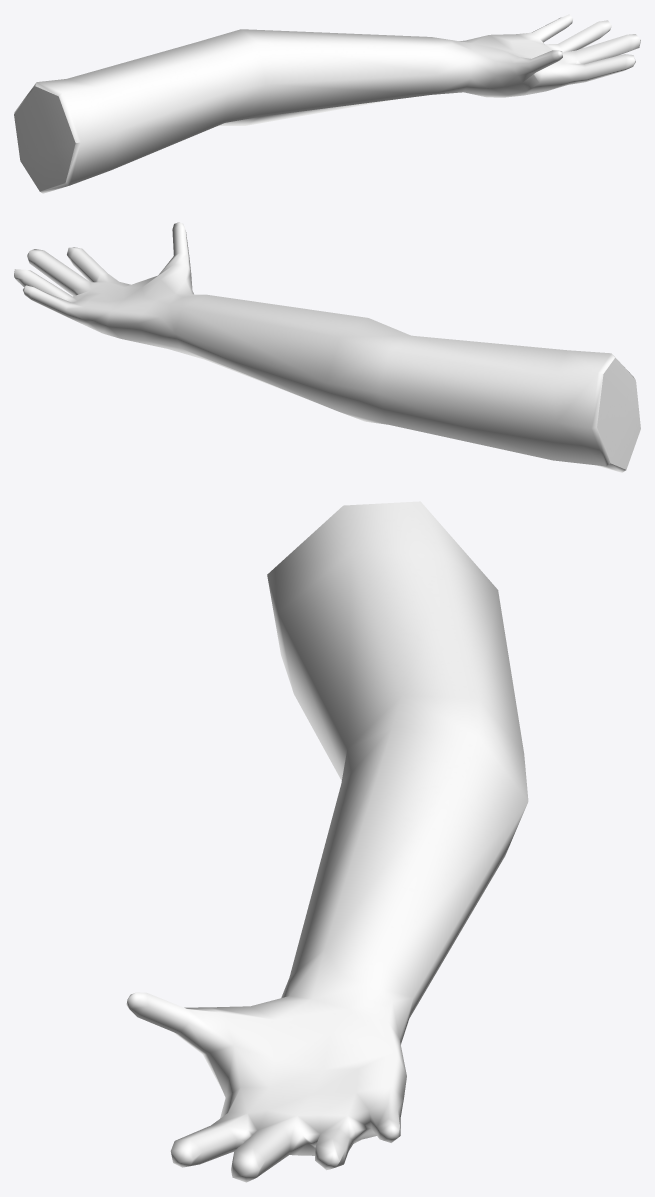
File: maniqui_arm.fbx
The picture shows the model from 3 angles, top to bottom: view 1: azimuth 30°, elevation 25°; view 2: azimuth 150°, elevation 25°; view 3: azimuth 270°, elevation 25°; orthographic projection. The views are drawn at different scales.
Parts seen in each view (by area): view 1: polySurface2; view 2: polySurface2; view 3: polySurface2.
Boxes of the visible parts, bbox=[...] form: polySurface2: bbox=[14, 14, 640, 193]; polySurface2: bbox=[14, 222, 640, 472]; polySurface2: bbox=[126, 501, 528, 1182].
Bounding box in the file's own units: 65.36 × 10.96 × 19.8.
